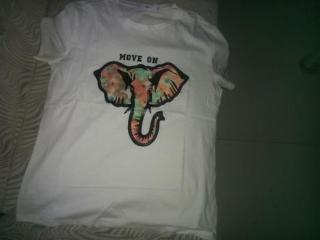short sleeve top: (15, 0, 236, 239)
